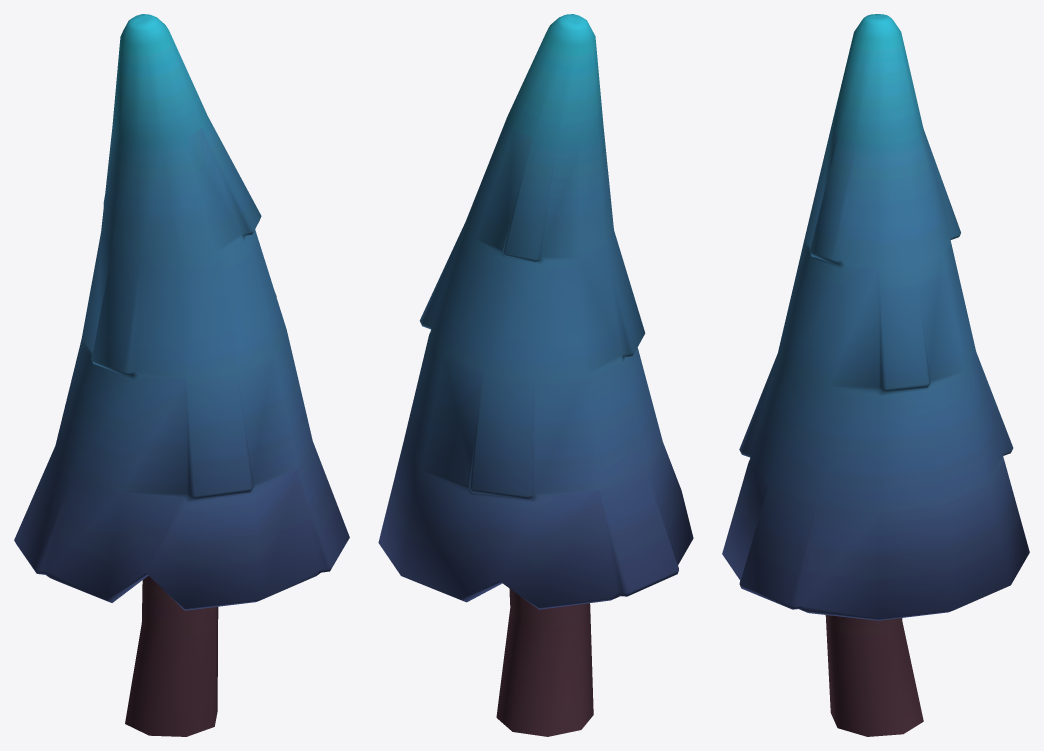
The model's file is Tree_13.fbx.
3 views of the same model, side by side, from view 1: azimuth 30°, elevation 25°; view 2: azimuth 150°, elevation 25°; view 3: azimuth 270°, elevation 25° (orthographic). The views are drawn at different scales.
Parts seen in each view (by area): view 1: Tree_13; view 2: Tree_13; view 3: Tree_13.
Boxes of the visible parts, bbox=[...] form: Tree_13: bbox=[14, 14, 349, 736]; Tree_13: bbox=[378, 14, 693, 736]; Tree_13: bbox=[722, 14, 1029, 736].
Size of the model in its own units: 160 by 383 by 155.
